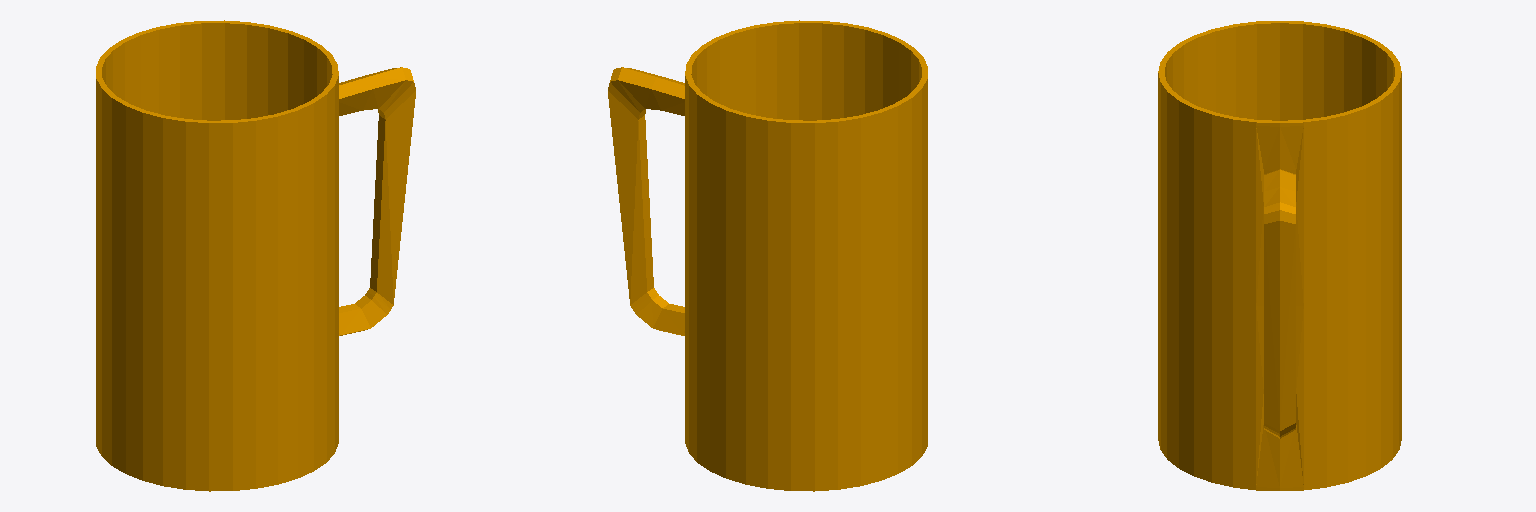
URDF robot description (mesh_object):
<?xml version="1.0" ?>
<robot name="mesh_object">
  <link name="base">
    <visual>
      <geometry>
        <mesh filename="fume_hood_2.obj" scale="1 1 1"/>
      </geometry>
    </visual>
    <collision>
      <geometry>
        <mesh filename="fume_hood_2.obj" scale="1 1 1"/>
      </geometry>
    </collision>
    <inertial>
      <origin xyz="0.001449 -0.000033 0.044249" rpy="0 0 0"/>
      <mass value="0.5"/>
      <inertia ixx="0.01" iyy="0.01" izz="0.01" ixy="0" ixz="0" iyz="0"/>
    </inertial>
  </link>
</robot>

--- Facts derived from the render (not from the file) ---
Views: 3 orthographic renders of the robot side by side, from view 1: azimuth 30°, elevation 25°; view 2: azimuth 150°, elevation 25°; view 3: azimuth 270°, elevation 25°.
Robot: mesh_object — 1 links, 0 joints (none); root link base; default pose: every joint at zero.
Links seen in each view (by area): view 1: base; view 2: base; view 3: base.
Boxes of the visible links, x1,y1,x2,y2 form: base: (96,20,415,491); base: (608,20,927,491); base: (1158,21,1401,490).
Bounding box of the posed robot: 0.0752 × 0.0528 × 0.0885 m (x, y, z).
1 mesh visuals loaded from 1 distinct referenced files (1 OBJ).
